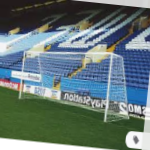goals: (16, 48, 130, 123)
